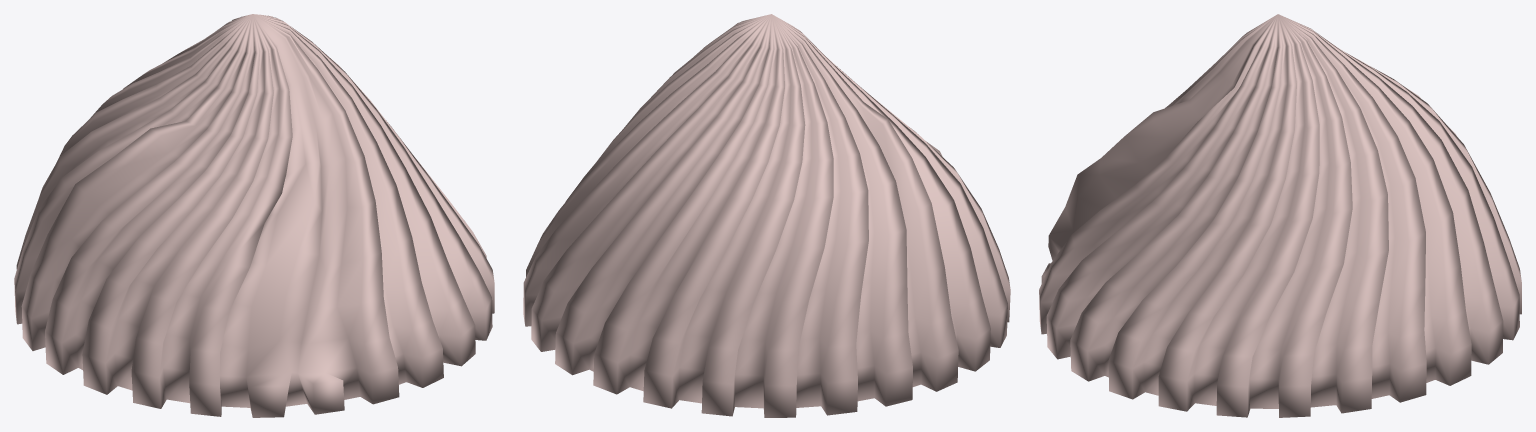
The model's file is cream-screw-draco.glb.
3 renders of one model, left to right at view 1: azimuth 30°, elevation 25°; view 2: azimuth 150°, elevation 25°; view 3: azimuth 270°, elevation 25°, orthographic.
Visible parts, largest first — view 1: cream; view 2: cream; view 3: cream.
Part boxes in pixels (left/top/right/bottom): cream: left=14, top=14, right=494, bottom=417; cream: left=523, top=14, right=1010, bottom=417; cream: left=1039, top=14, right=1521, bottom=417.
Size of the model in its own units: 11.12 by 7.77 by 11.09.
